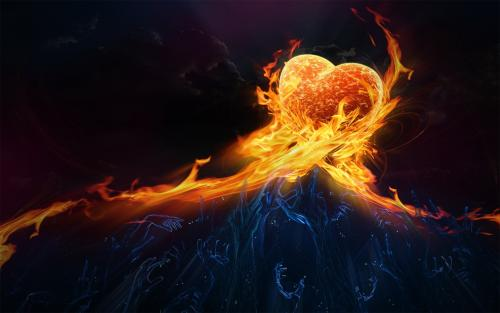fire: (260, 120, 328, 169), (335, 129, 375, 189)
